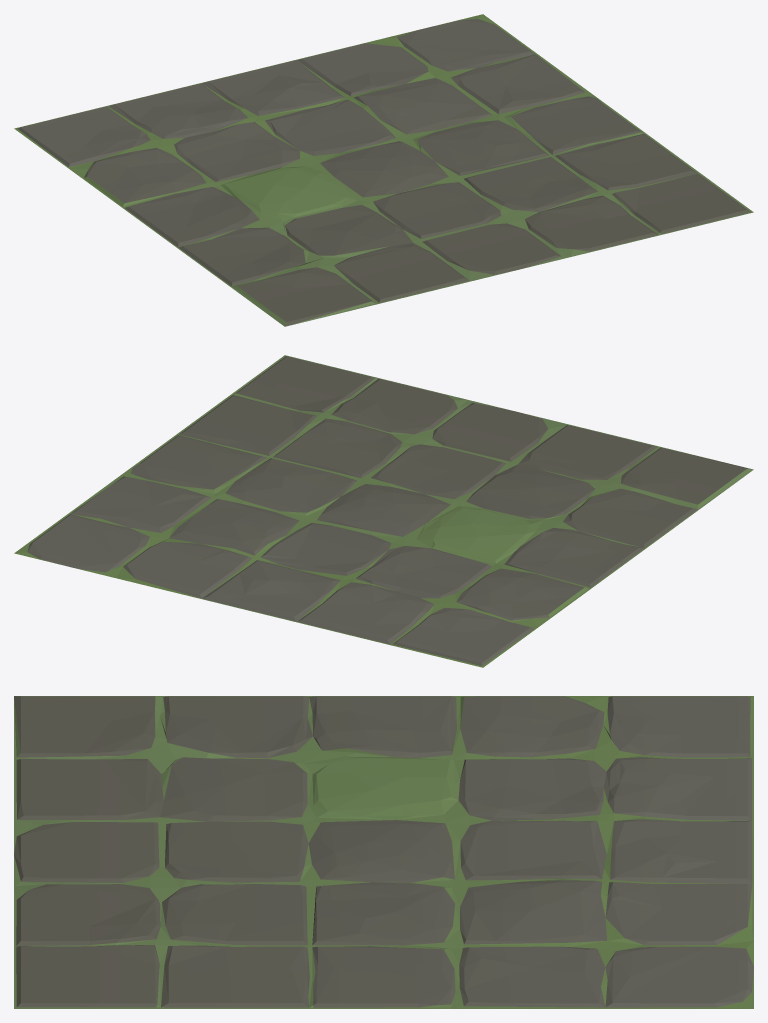
Rendered from Ground_12.fbx.
3 renders of one model, top to bottom at view 1: azimuth 30°, elevation 25°; view 2: azimuth 150°, elevation 25°; view 3: azimuth 270°, elevation 25°, orthographic. The views are drawn at different scales.
Parts seen in each view (by area): view 1: Ground_12; view 2: Ground_12; view 3: Ground_12.
Boxes of the visible parts, left/top/right/bottom form: Ground_12: left=14, top=14, right=753, bottom=326; Ground_12: left=14, top=355, right=753, bottom=667; Ground_12: left=14, top=696, right=753, bottom=1008.
Size of the model in its own units: 4 by 0.0465 by 4.
